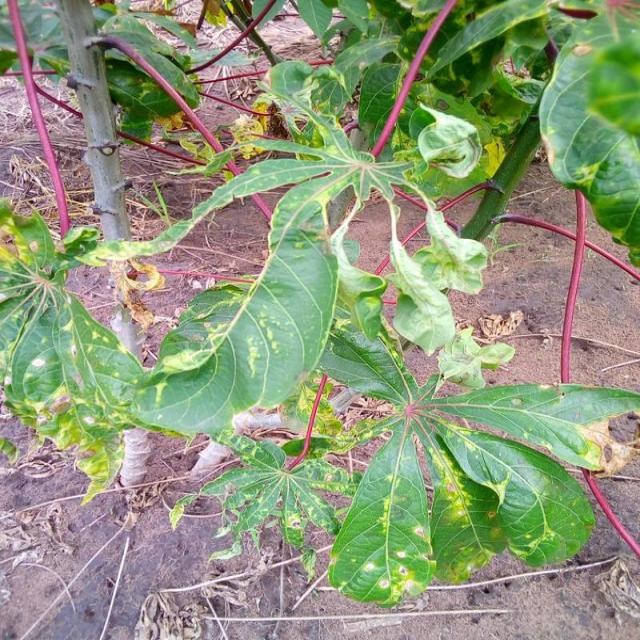cassava leaf: (129, 176, 341, 438), (427, 416, 596, 583), (537, 8, 639, 266), (326, 422, 436, 607)
